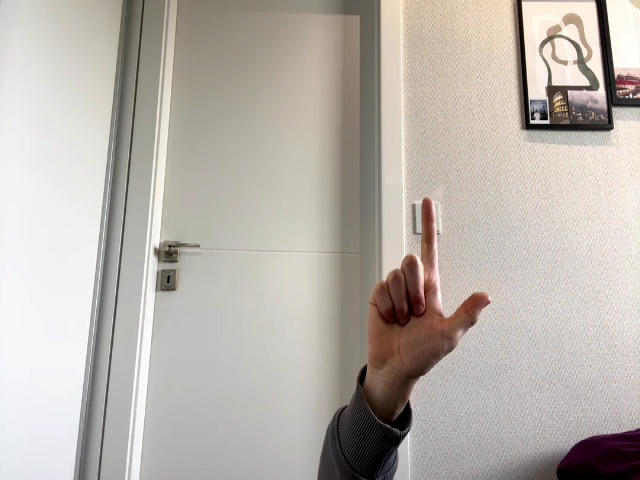L: (366, 197, 491, 400)
